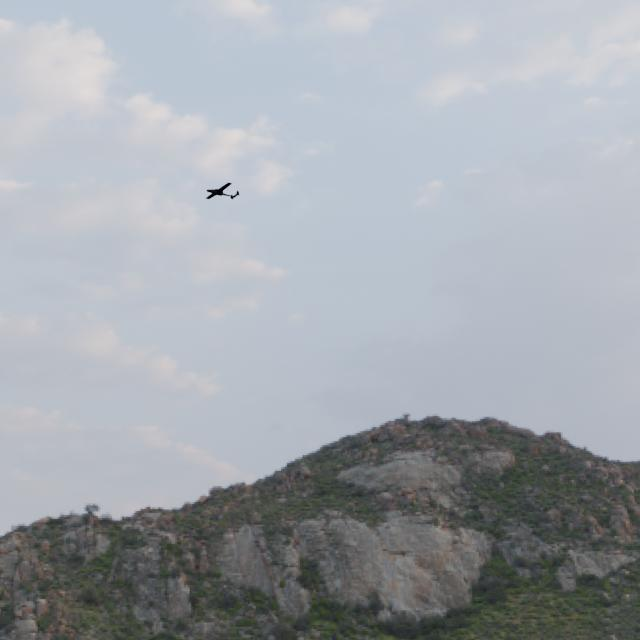Airaplan: (205, 182, 239, 199)
